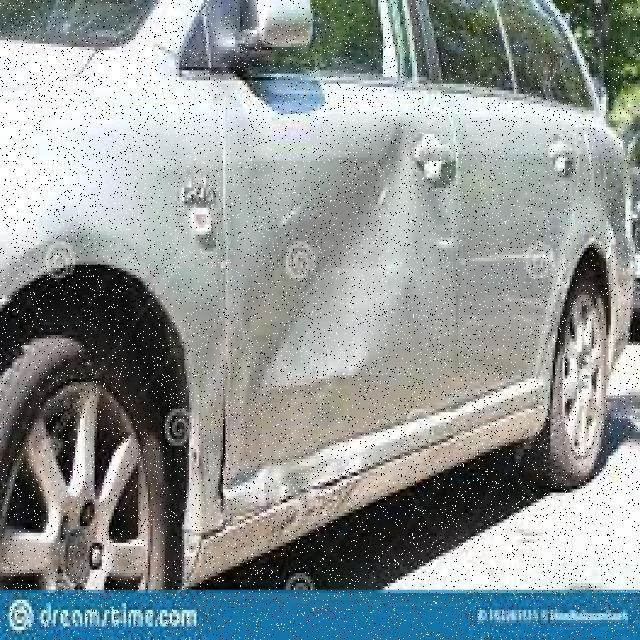RunningBoard-Dent: (182, 462, 478, 566)
doorouter-dent: (218, 87, 451, 449), (451, 104, 596, 406)
